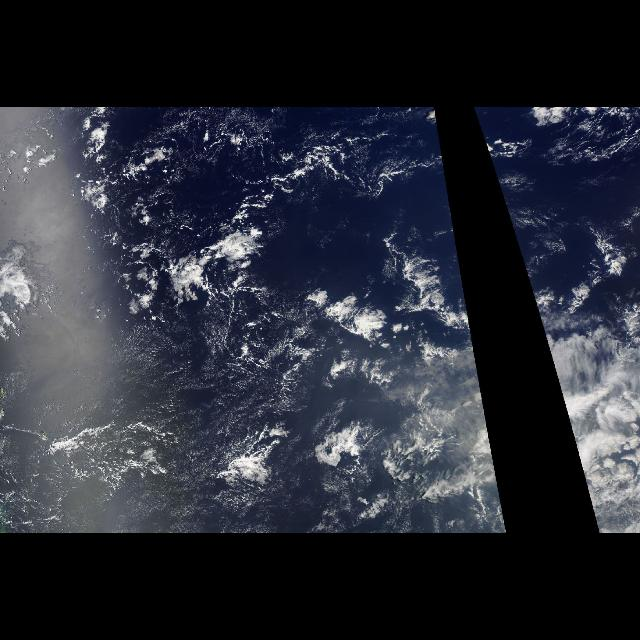Sugar: (1, 327, 376, 533)
